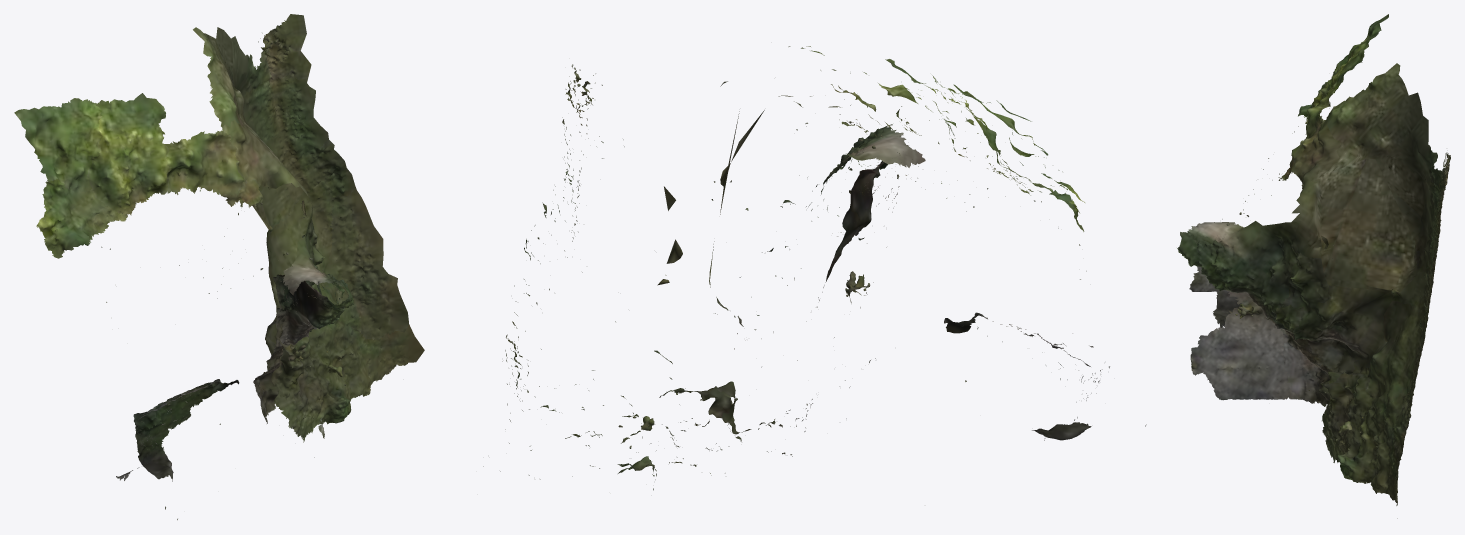
The picture shows the model from 3 angles, left to right: view 1: azimuth 30°, elevation 25°; view 2: azimuth 150°, elevation 25°; view 3: azimuth 270°, elevation 25°; orthographic projection. The views are drawn at different scales.
Bounding box in the file's own units: 21.43 × 19.65 × 13.28.
1 material, 1 textured.
